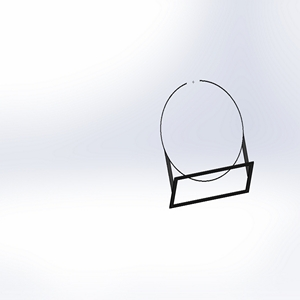circle: (157, 77, 256, 207)
